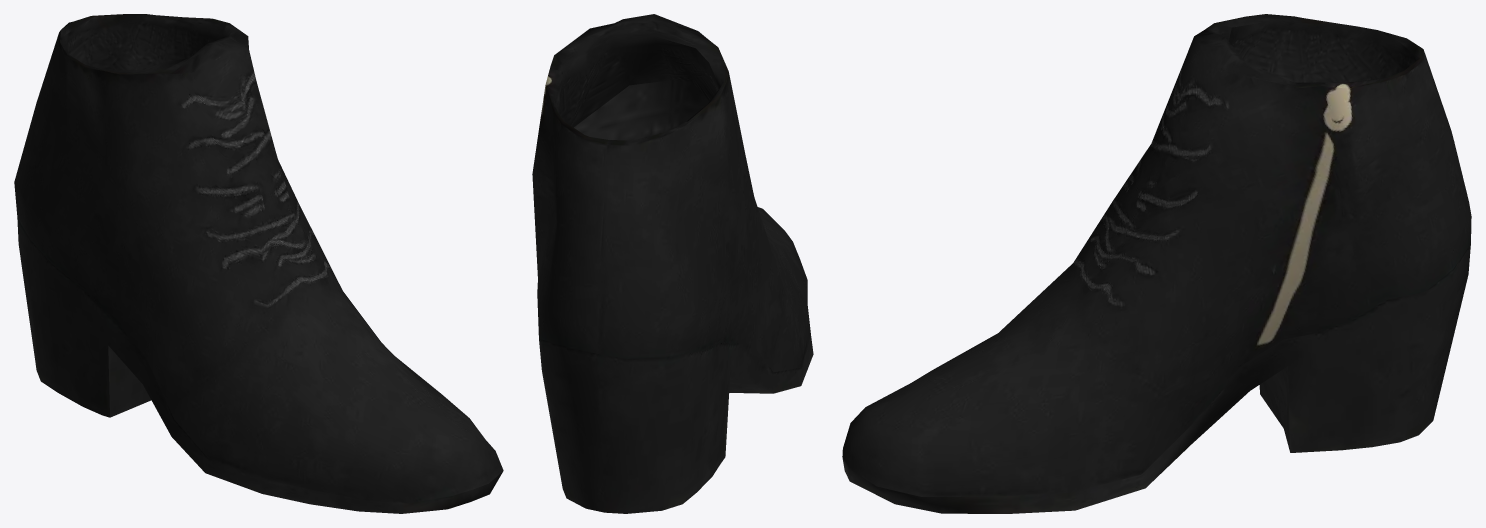
File: ankle-boots.glb
3 views of the same model, side by side, from view 1: azimuth 30°, elevation 25°; view 2: azimuth 150°, elevation 25°; view 3: azimuth 270°, elevation 25° (orthographic). The views are drawn at different scales.
Visible parts, largest first — view 1: clean_right.001_clean_0; view 2: clean_right.001_clean_0; view 3: clean_right.001_clean_0.
Part boxes in pixels (x1,y1,x2,y2): clean_right.001_clean_0: (14, 14, 503, 513); clean_right.001_clean_0: (532, 14, 813, 513); clean_right.001_clean_0: (842, 14, 1471, 513).
Bounding box in the file's own units: 6.42 × 9.03 × 12.58.
Materials: 1 (1 with a texture image).
